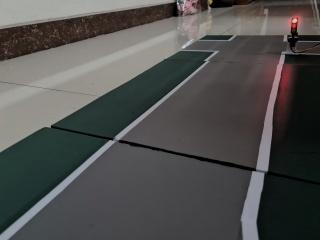red: (286, 13, 301, 52)
